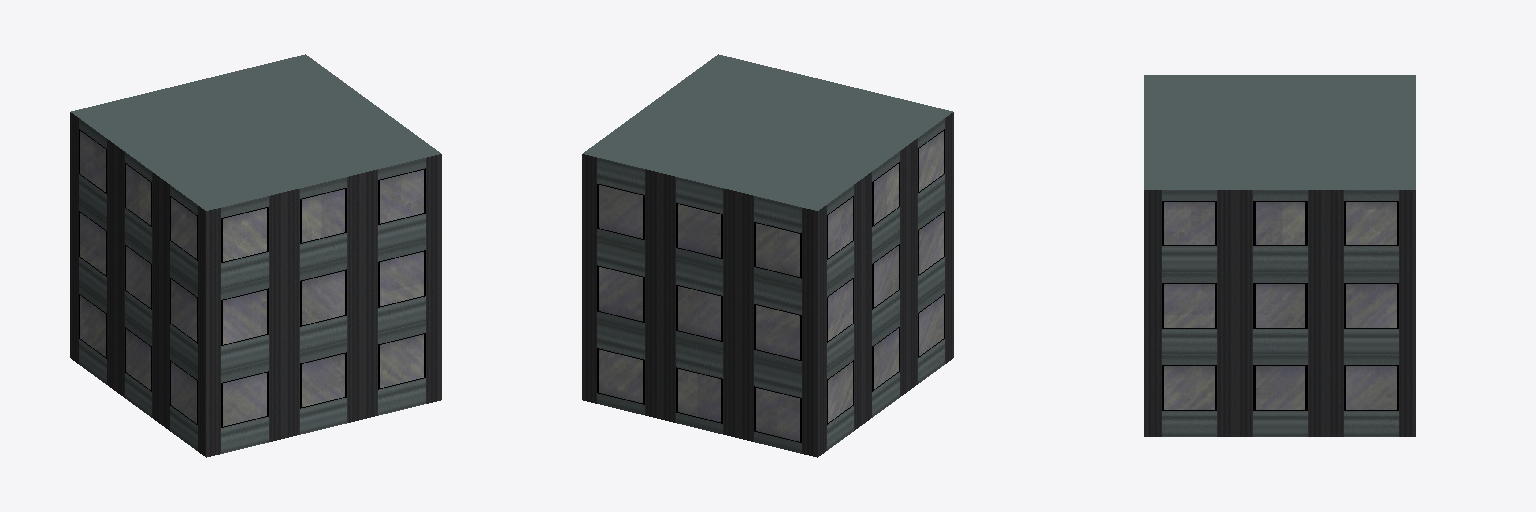
3 views of the same model, side by side, from view 1: azimuth 30°, elevation 25°; view 2: azimuth 150°, elevation 25°; view 3: azimuth 270°, elevation 25° (orthographic).
Parts seen in each view (by area): view 1: Cube; view 2: Cube; view 3: Cube.
Boxes of the visible parts, box(x1,y1,x2,y2) form: Cube: box(70, 54, 441, 457); Cube: box(582, 54, 953, 457); Cube: box(1144, 75, 1415, 436).
Bounding box in the file's own units: 1 × 1 × 1.
Materials: 2 (2 with a texture image).